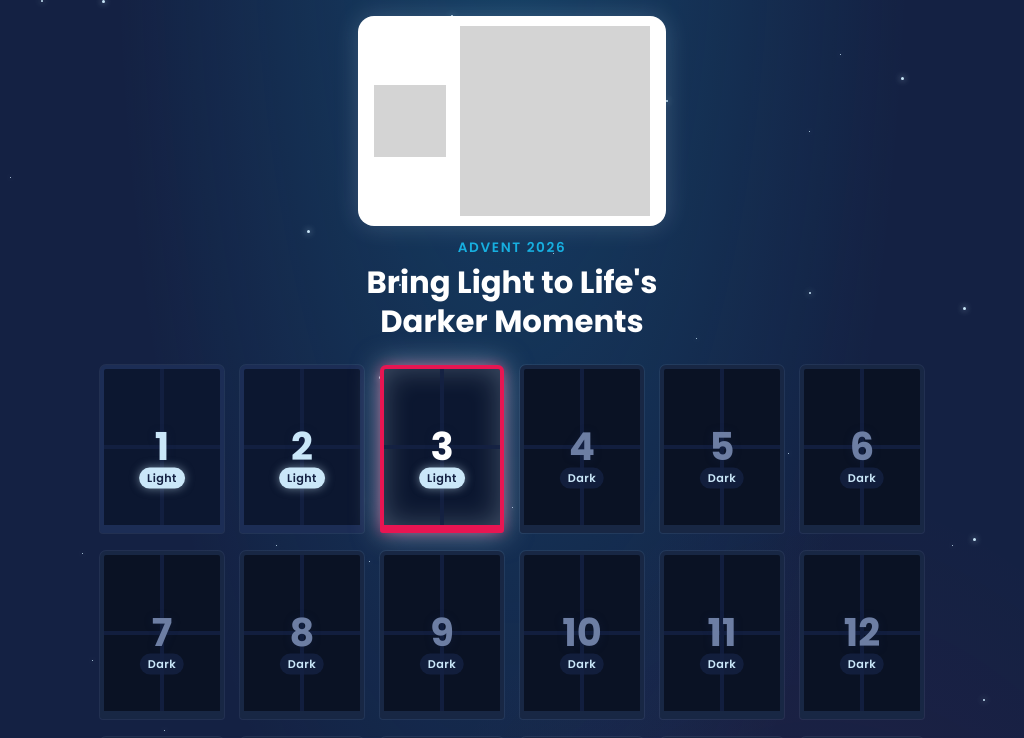
Test: a locked door shows the still-dark message
Click the button "10 Dark" at {"x": 582, "y": 635}, box 520,551 -> 644,719
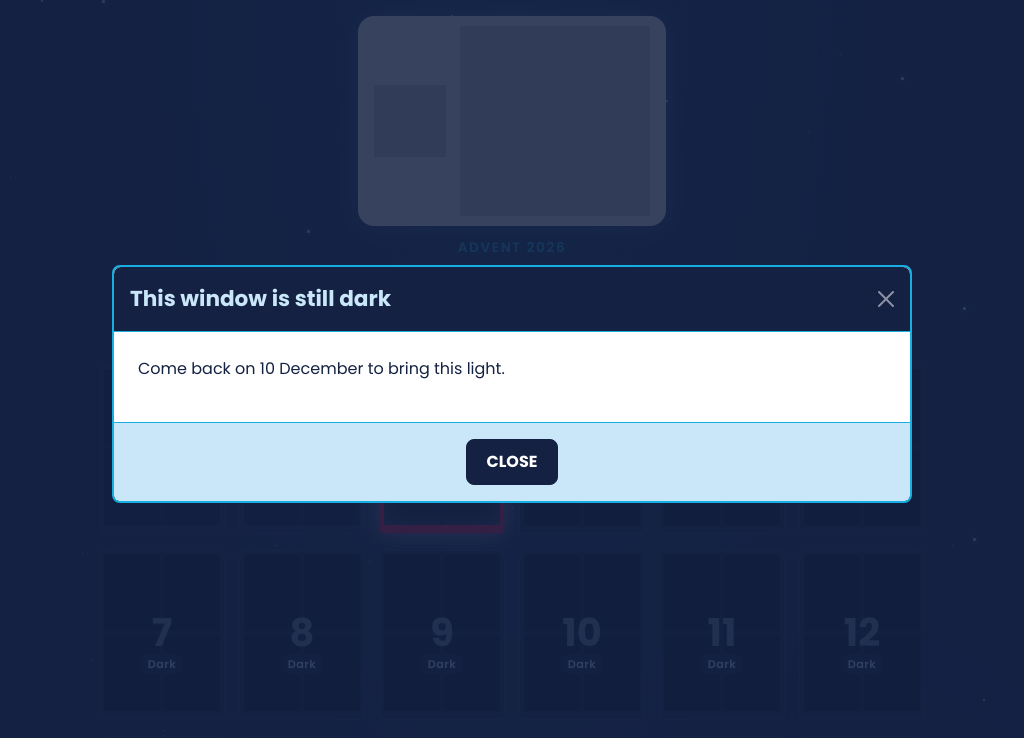
Result: the text "This window is still dark" is shown at 130,283 -> 391,315
